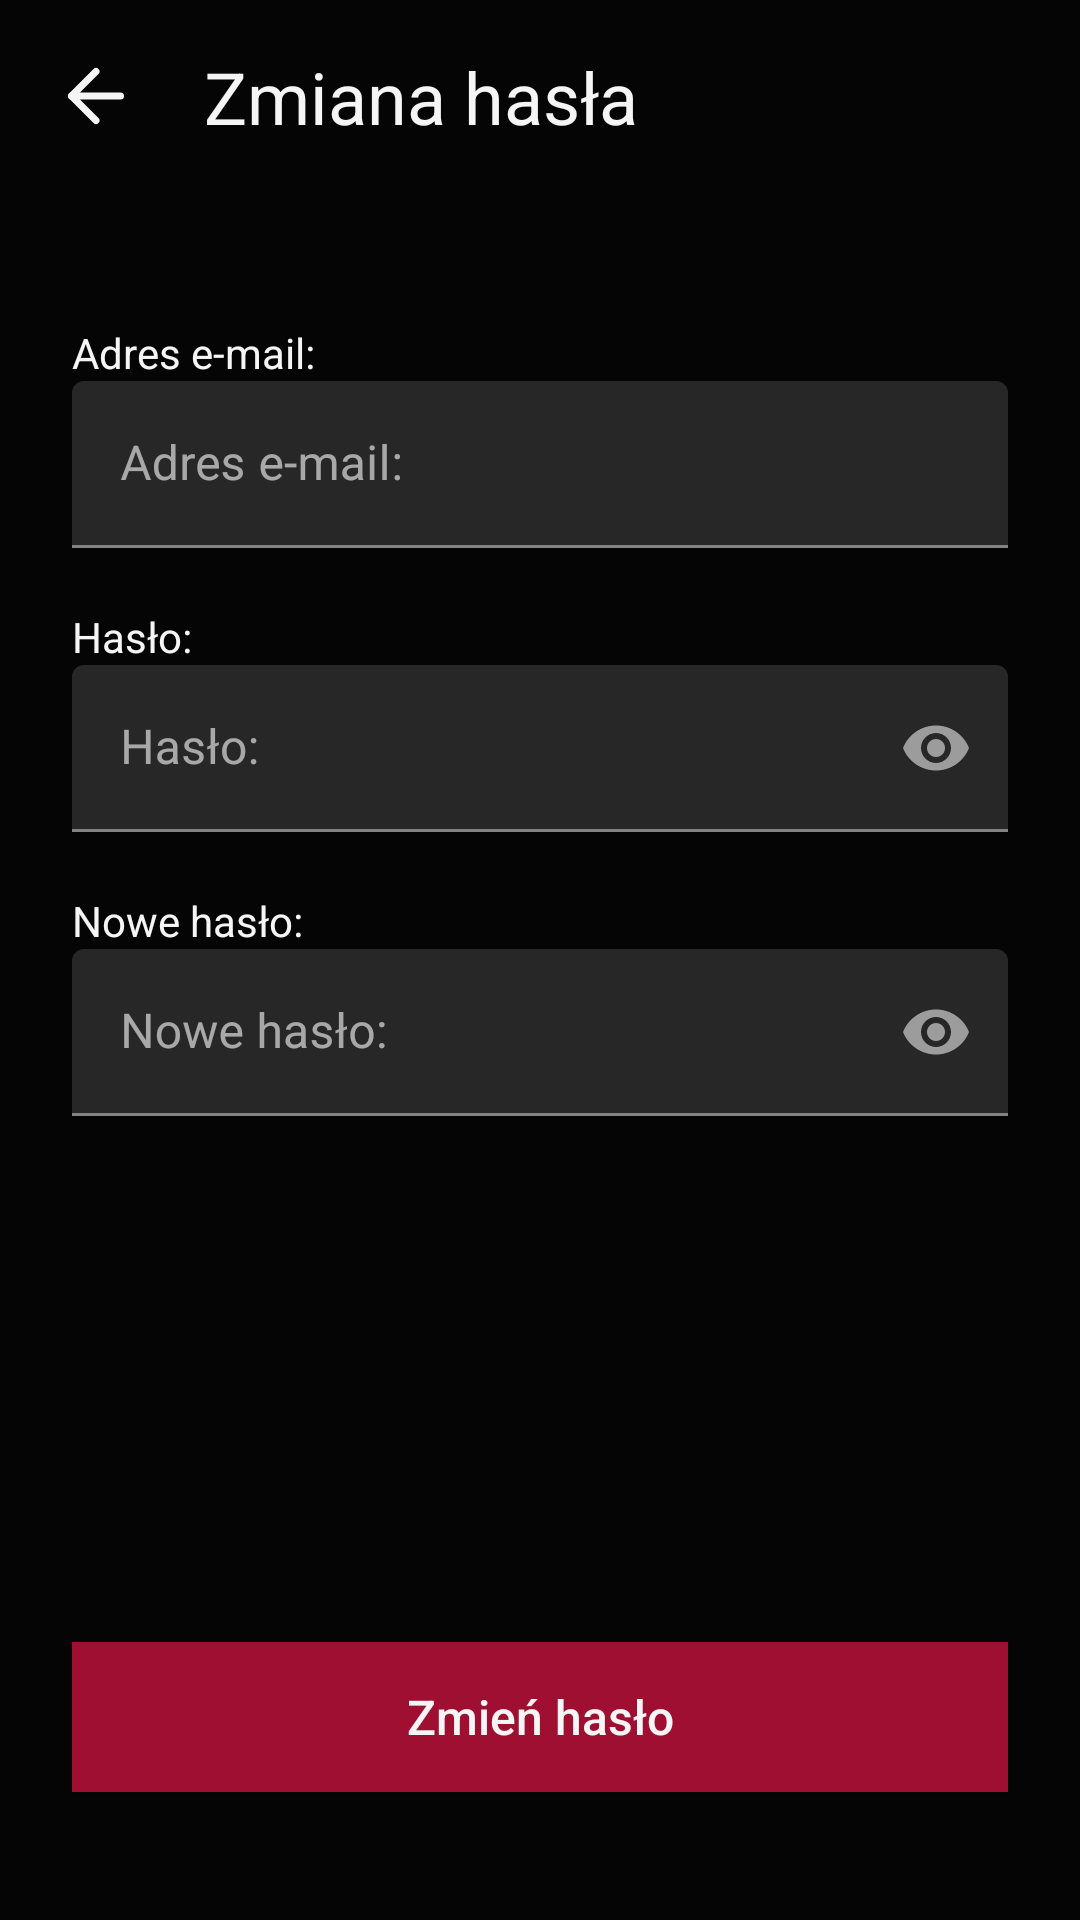

Icon bounding boxes for this 1080*1920 phone screenshot, format (x1,y1,x2,y2):
Go Back: (68,67,124,125)
